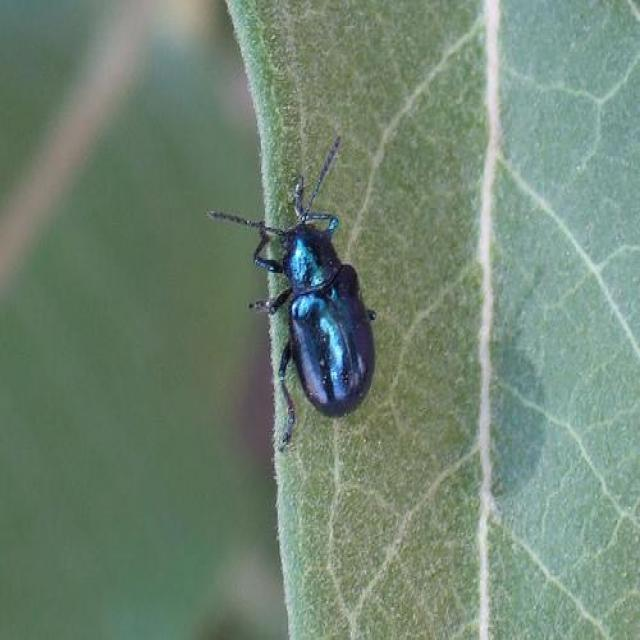BlisterBeetle-Adult-: (217, 132, 394, 466)
